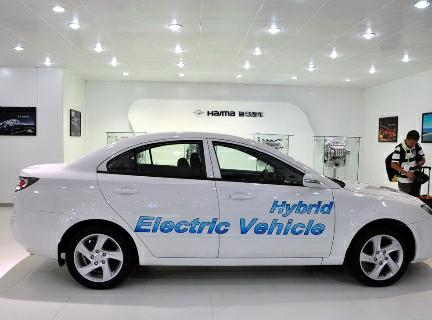海马-3: (10, 128, 432, 295)
